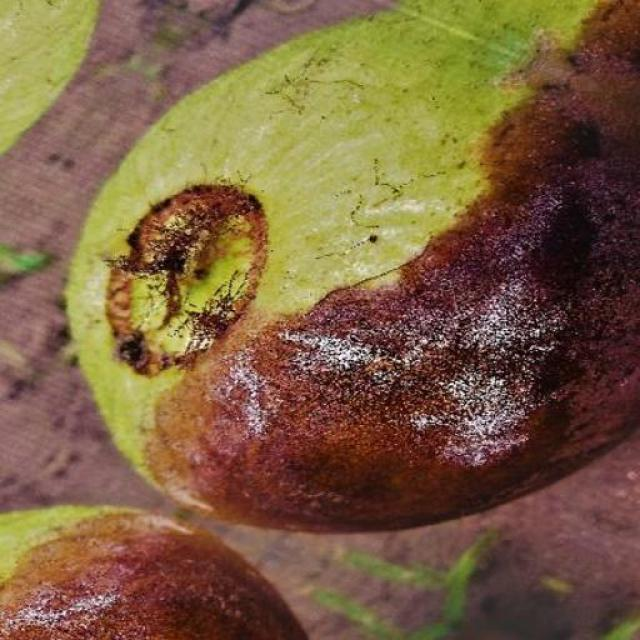Styler_Root: (1, 514, 305, 640)
